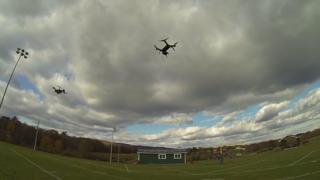UAV: (154, 38, 179, 58), (51, 86, 69, 95)
